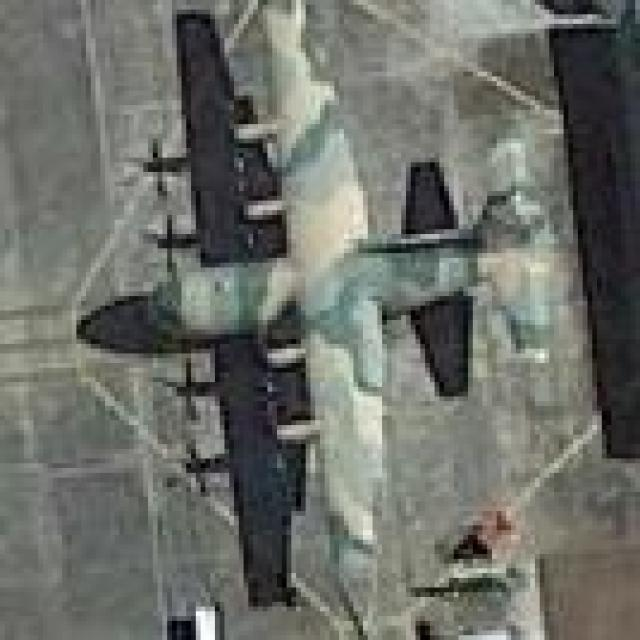C-130_TopDown: (76, 4, 580, 604)
